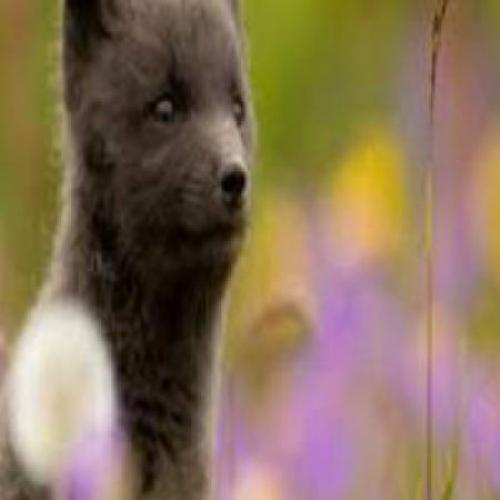arctic_fox-endangered: (0, 0, 262, 500)
